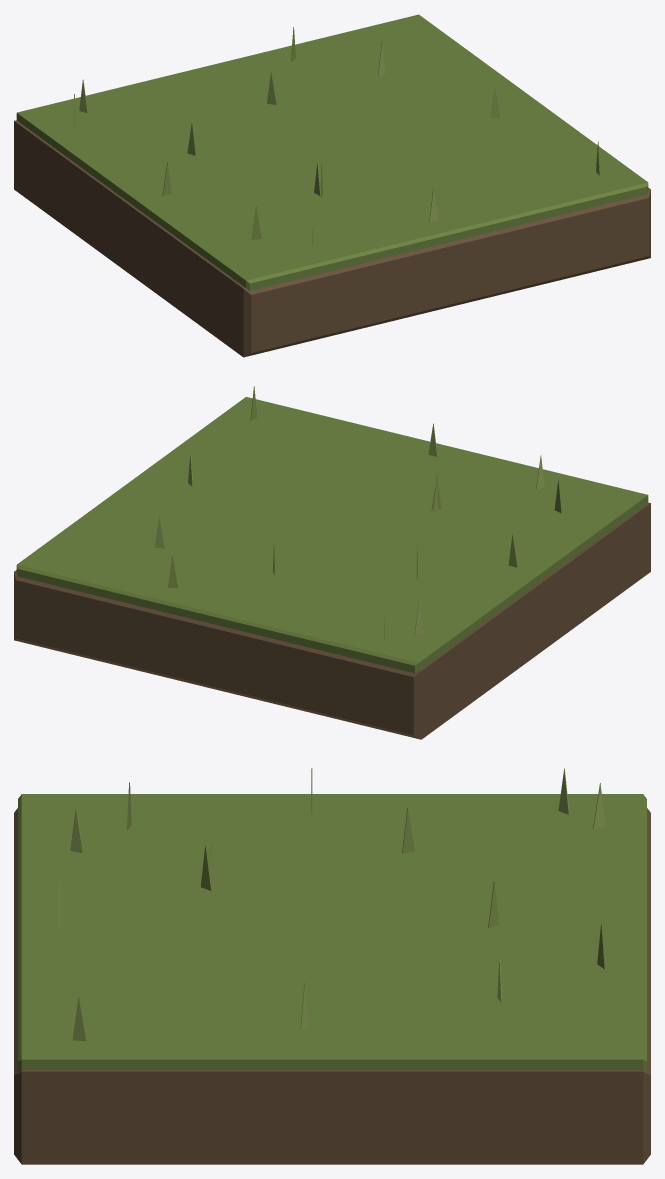
File: grass_tile.glb
3 renders of one model, top to bottom at view 1: azimuth 30°, elevation 25°; view 2: azimuth 150°, elevation 25°; view 3: azimuth 270°, elevation 25°, orthographic. The views are drawn at different scales.
Parts seen in each view (by area): view 1: moss_114, dirt_113; view 2: moss_114, dirt_113; view 3: moss_114, dirt_113.
Boxes of the visible parts, x1,y1,x2,y2 form: moss_114: (16,14,648,290); dirt_113: (14,120,650,357); moss_114: (16,397,648,673); dirt_113: (14,502,650,739); moss_114: (18,794,646,1071); dirt_113: (14,808,650,1164).
Size of the model in its own units: 2.05 by 0.525 by 2.05.
